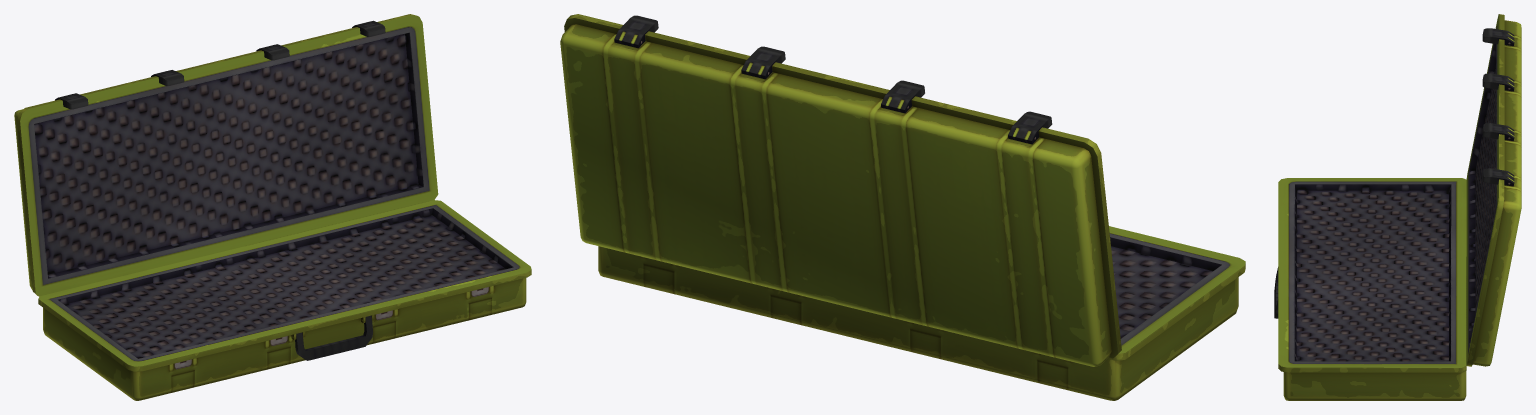
The model's file is StorageCase02_2.FBX.
3 views of the same model, side by side, from view 1: azimuth 30°, elevation 25°; view 2: azimuth 150°, elevation 25°; view 3: azimuth 270°, elevation 25° (orthographic). The views are drawn at different scales.
Parts seen in each view (by area): view 1: StorageCase02_2; view 2: StorageCase02_2; view 3: StorageCase02_2.
Boxes of the visible parts, left/top/right/bottom form: StorageCase02_2: left=14, top=14, right=531, bottom=400; StorageCase02_2: left=560, top=14, right=1245, bottom=400; StorageCase02_2: left=1274, top=14, right=1521, bottom=400.
Size of what is drawn, in the model's own units: 1.23 by 0.6265 by 0.6766.
